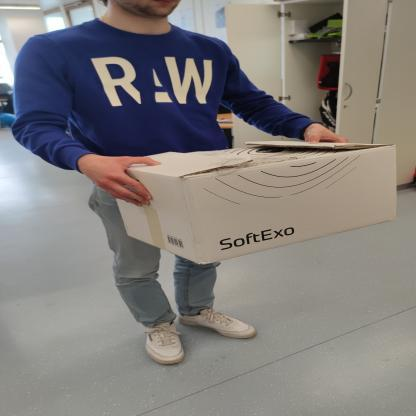-: (110, 136, 402, 266)
